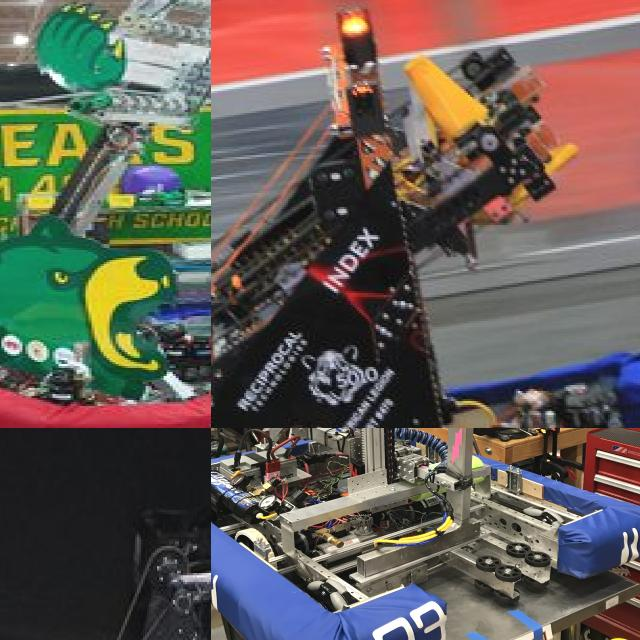FRC-Robots: (211, 0, 640, 428), (211, 428, 640, 640), (0, 0, 211, 428), (0, 435, 211, 640)
